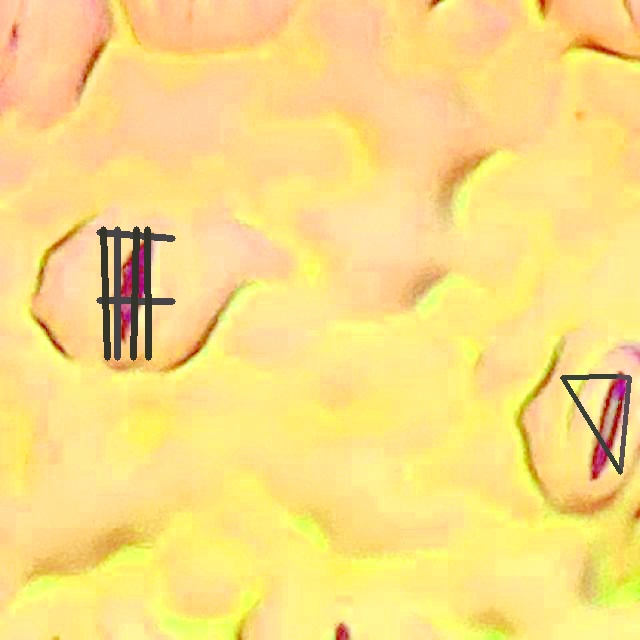open: (96, 226, 175, 360), (560, 374, 631, 474)
